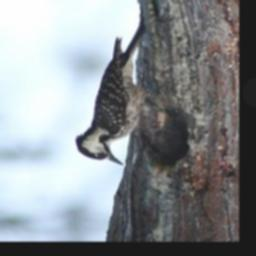Woodpecker: (73, 22, 175, 168)
